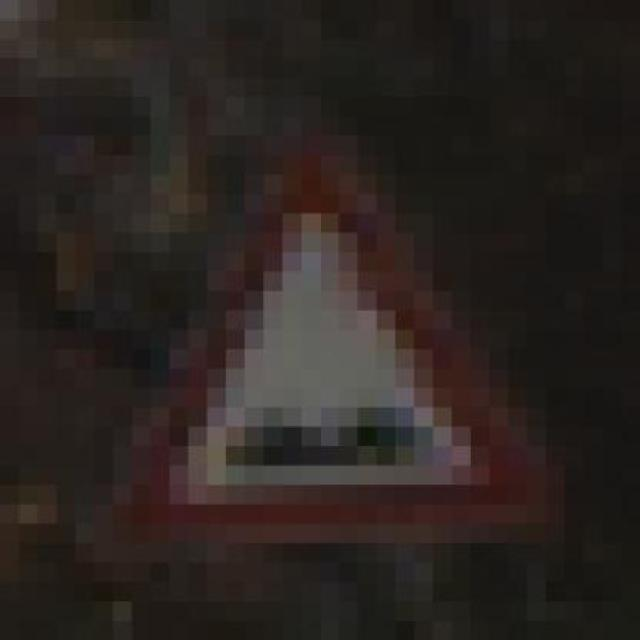Uneven Road: (112, 116, 565, 562)
